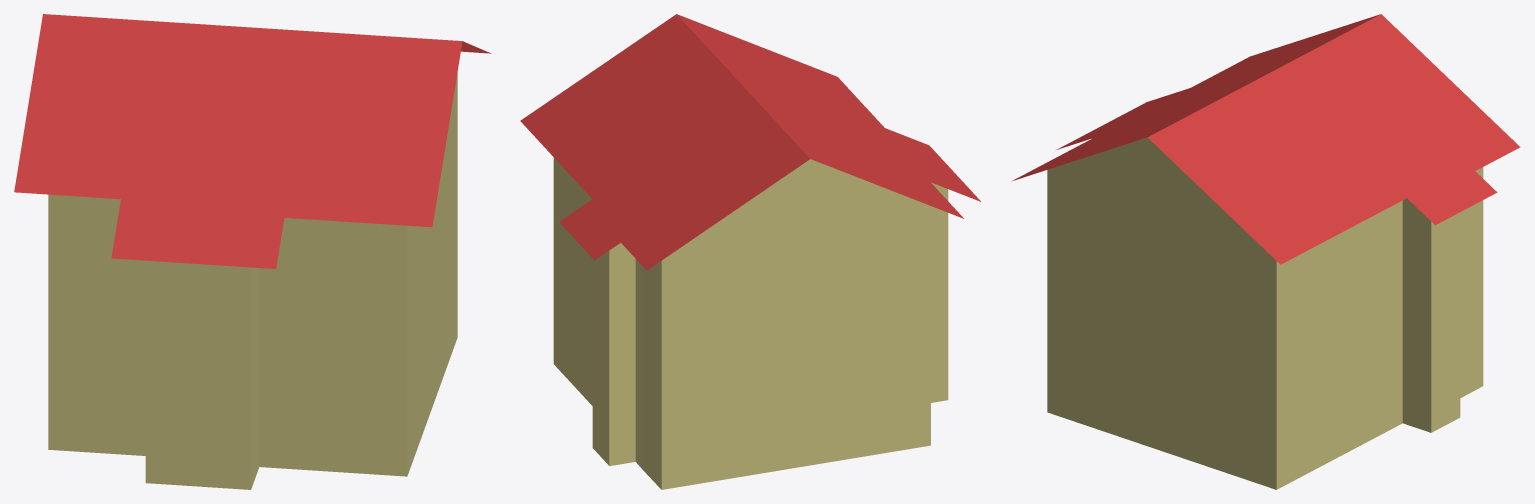
3 renders of one model, left to right at view 1: azimuth 30°, elevation 25°; view 2: azimuth 150°, elevation 25°; view 3: azimuth 270°, elevation 25°, orthographic. The views are drawn at different scales.
Parts seen in each view (by area): view 1: group_5, group_3, group_4; view 2: group_5, group_3, group_4; view 3: group_5, group_3, group_4.
Part boxes in pixels (bbox=[...]): group_5: bbox=[48, 73, 457, 489]; group_3: bbox=[16, 14, 462, 268]; group_4: bbox=[14, 14, 490, 268]; group_5: bbox=[553, 157, 948, 489]; group_3: bbox=[520, 14, 947, 270]; group_4: bbox=[592, 14, 980, 270]; group_5: bbox=[1047, 137, 1483, 489]; group_3: bbox=[1049, 15, 1519, 264]; group_4: bbox=[1011, 14, 1520, 197].
Size of the model in its own units: 14.3 by 14.48 by 10.12.
